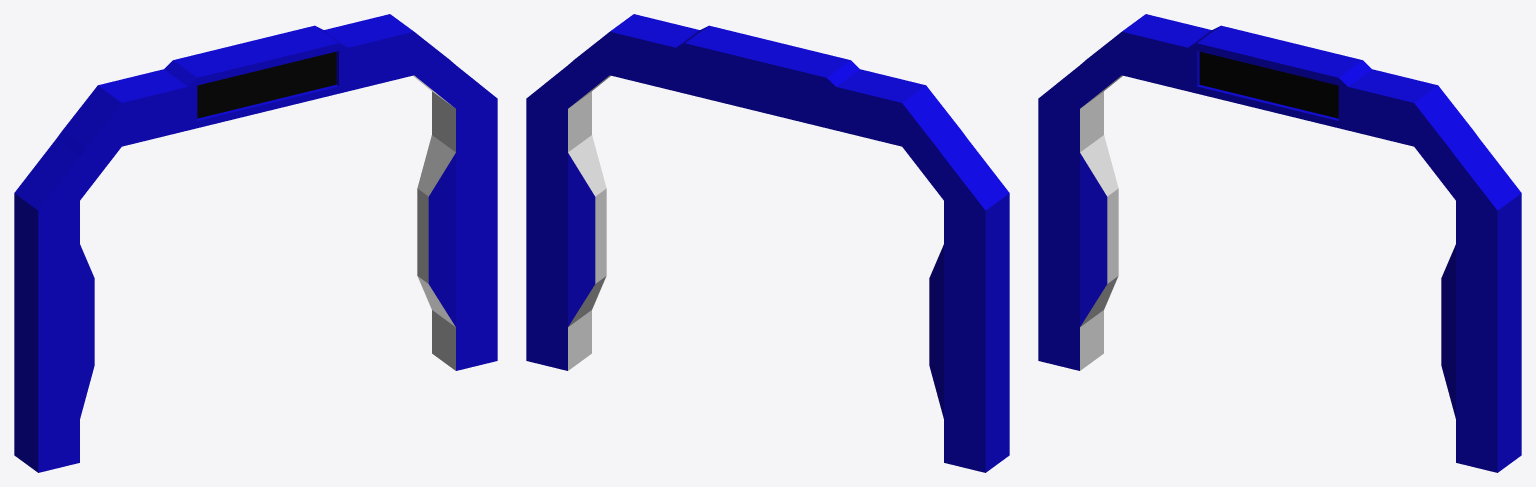
File: battle_gate_final.gltf
The picture shows the model from 3 angles, left to right: view 1: azimuth 30°, elevation 25°; view 2: azimuth 150°, elevation 25°; view 3: azimuth 330°, elevation 25°; orthographic projection.
Visible parts, largest first — view 1: Cube; view 2: Cube; view 3: Cube.
Boxes of the visible parts, left/top/right/bottom form: Cube: left=14, top=14, right=497, bottom=472; Cube: left=526, top=14, right=1009, bottom=472; Cube: left=1038, top=14, right=1521, bottom=472.
Bounding box in the file's own units: 11 × 8.15 × 1.
